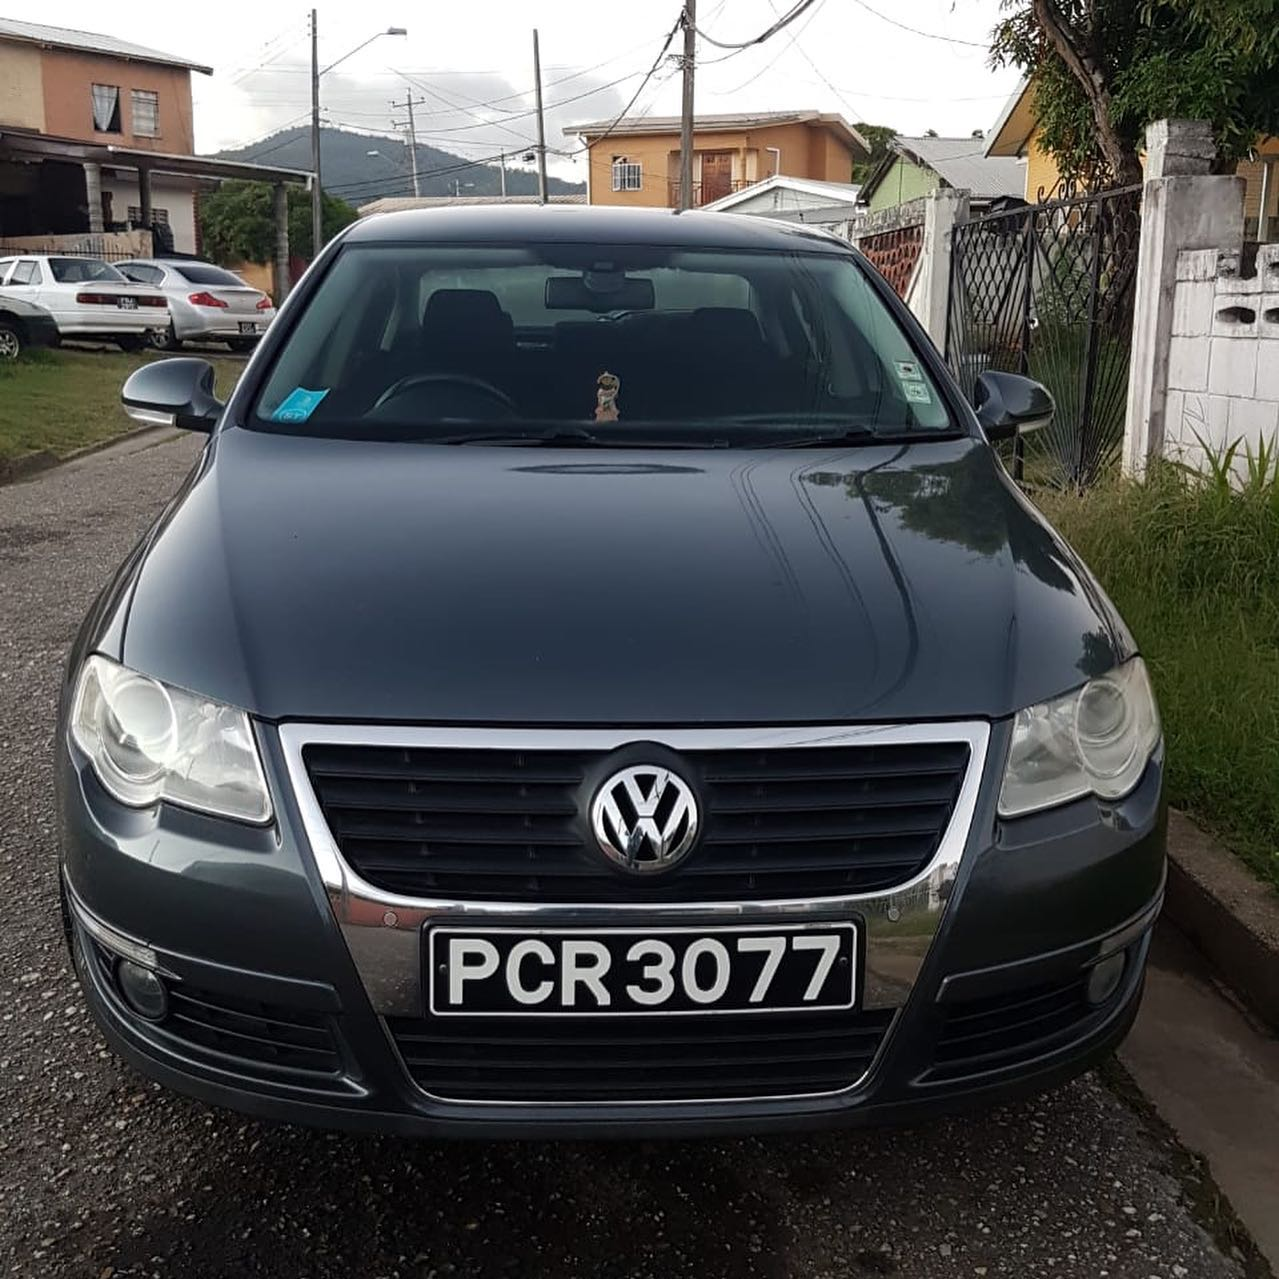License-Plate: (433, 933, 851, 1012)
